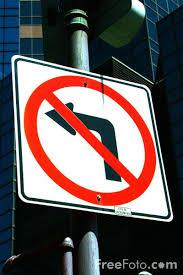no_left_turn: (23, 75, 156, 203)
